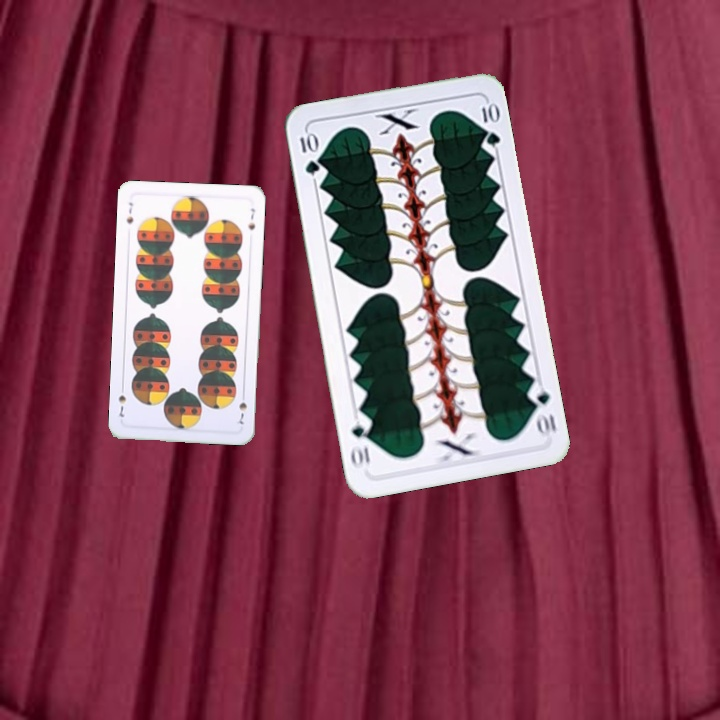G10: (524, 380, 559, 437), (296, 128, 322, 178)
S7: (235, 388, 249, 427), (123, 198, 136, 227)
